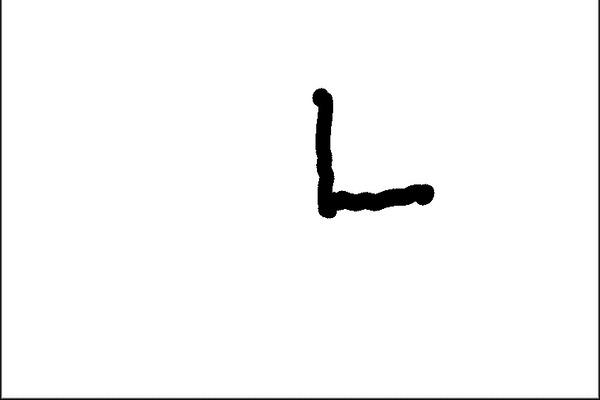L: (301, 74, 437, 224)
